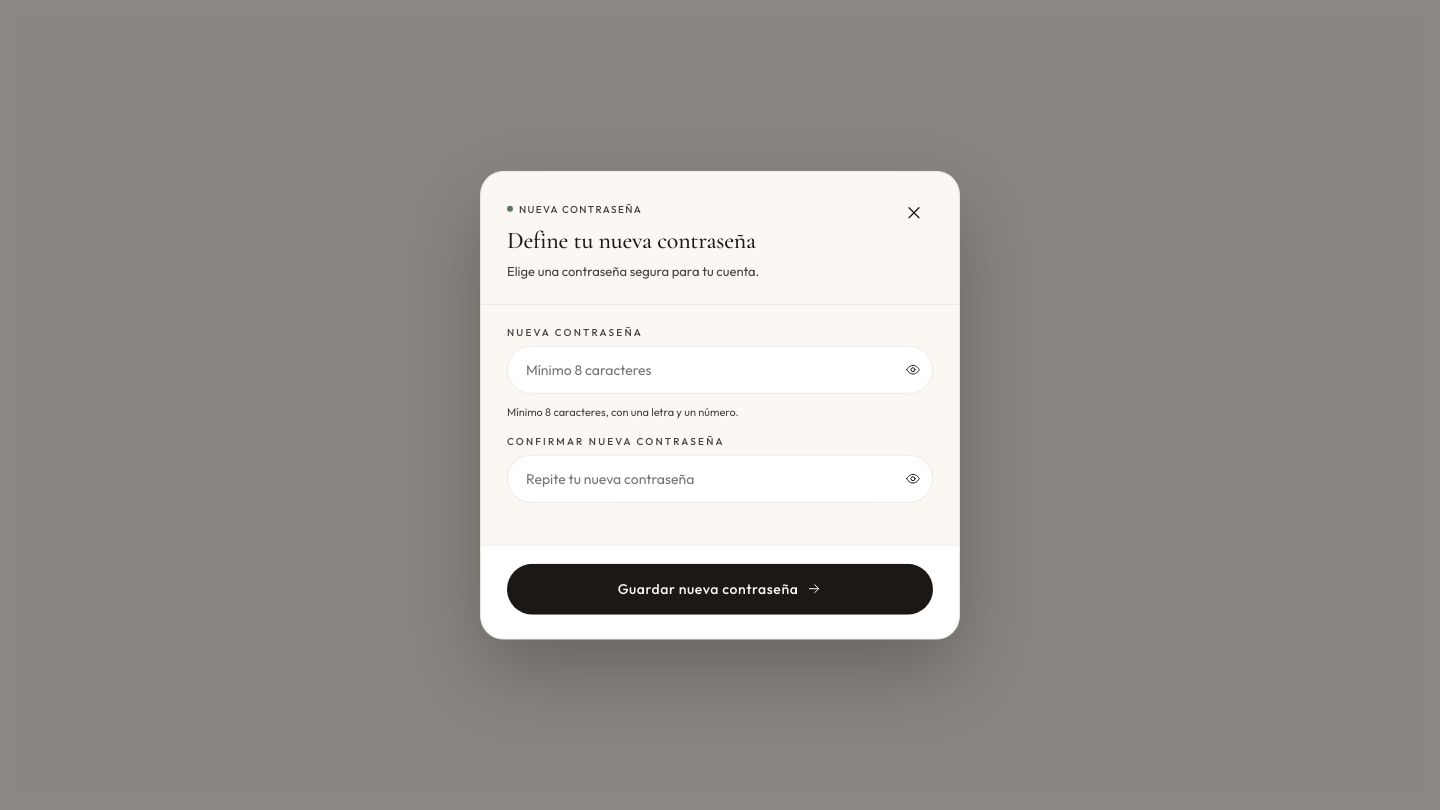
Test case: ResetPasswordModal › shows the success screen after saving a new password
The width and height of the screenshot is (1440, 810).
Type "clave1234" into the password field with placeholder "Mínimo 8 caracteres" at (720, 369), box [507, 345, 933, 393]
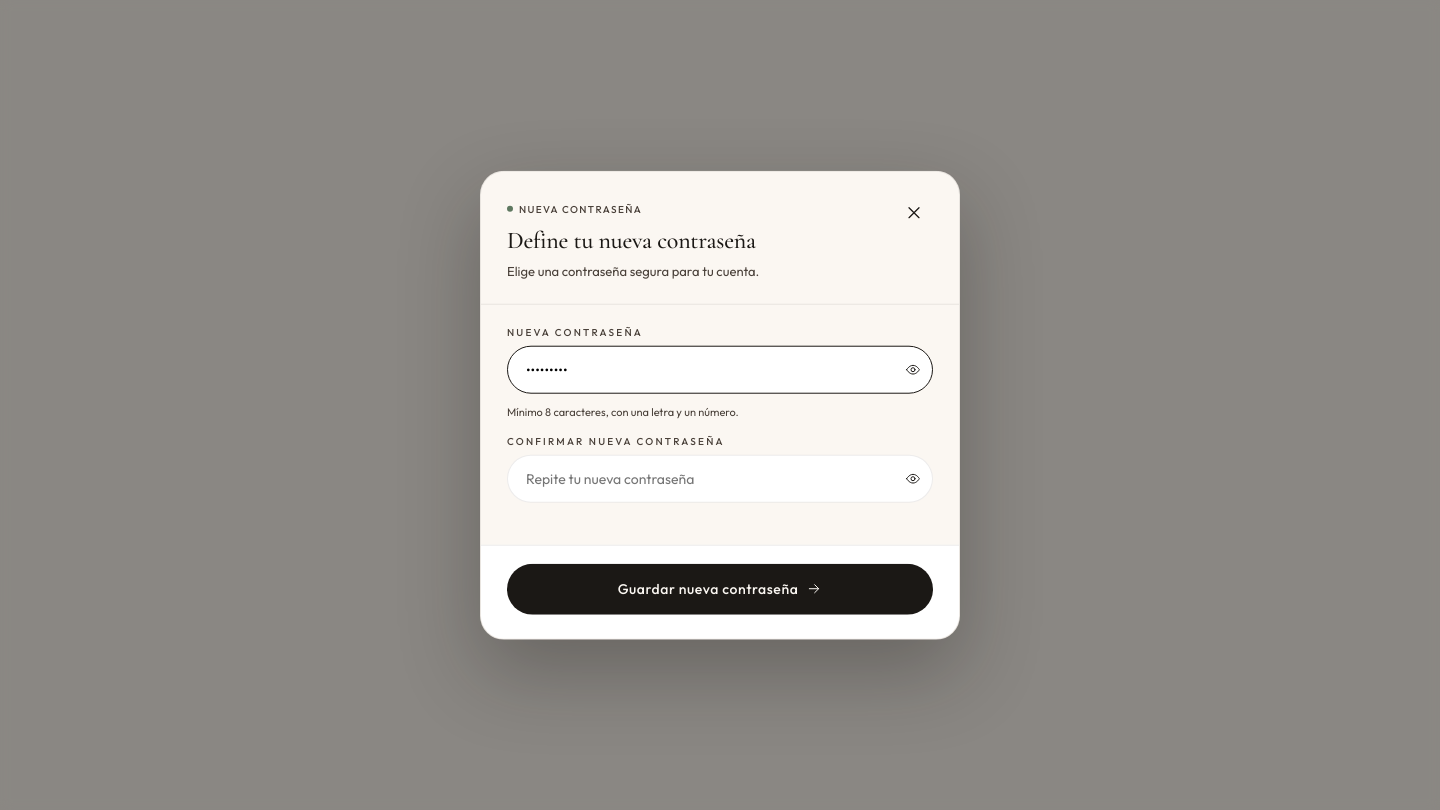
Type "clave1234" into the password field with placeholder "Repite tu nueva contraseña" at (720, 478), box [507, 454, 933, 502]
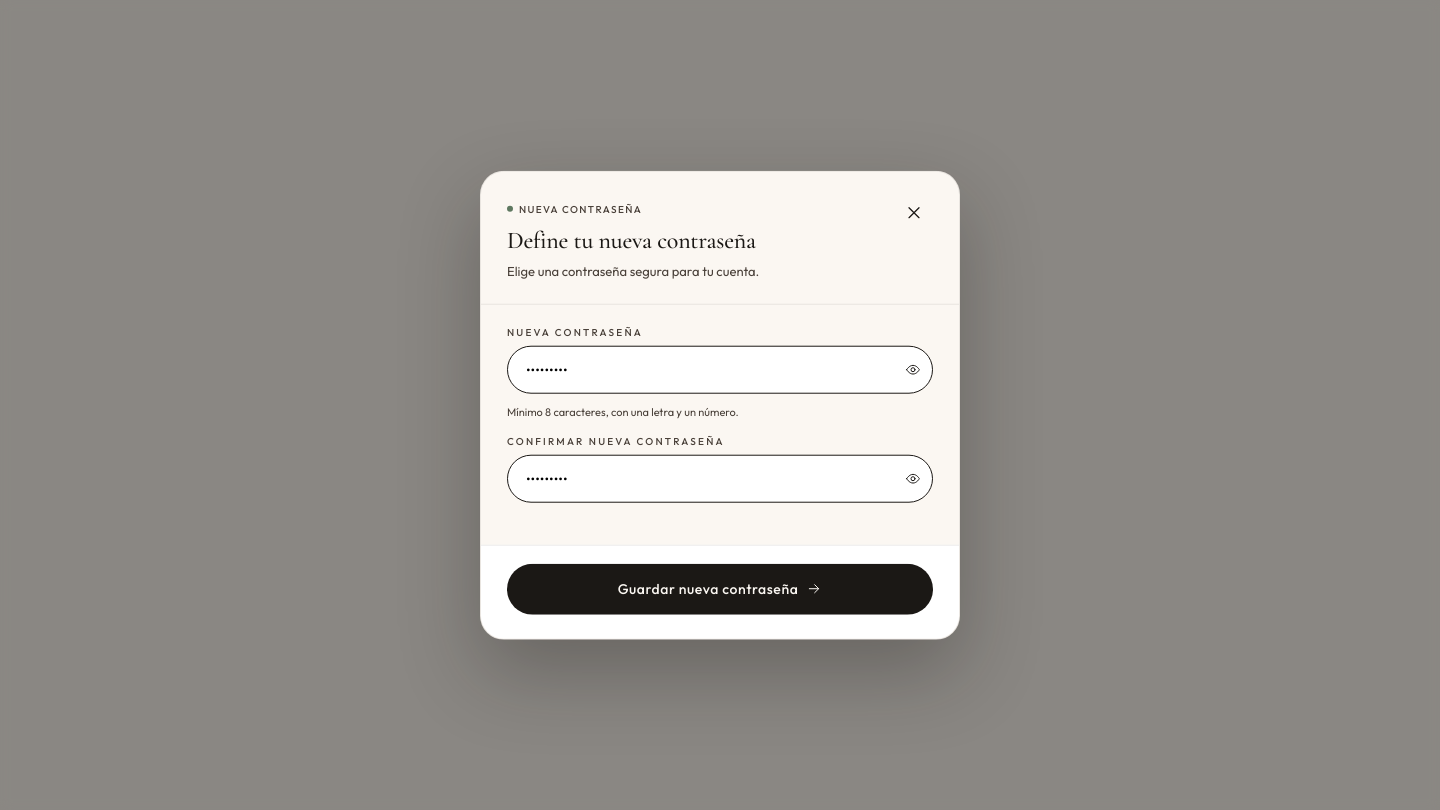
Click the button "Guardar nueva contraseña" at (720, 589), box [507, 563, 933, 614]
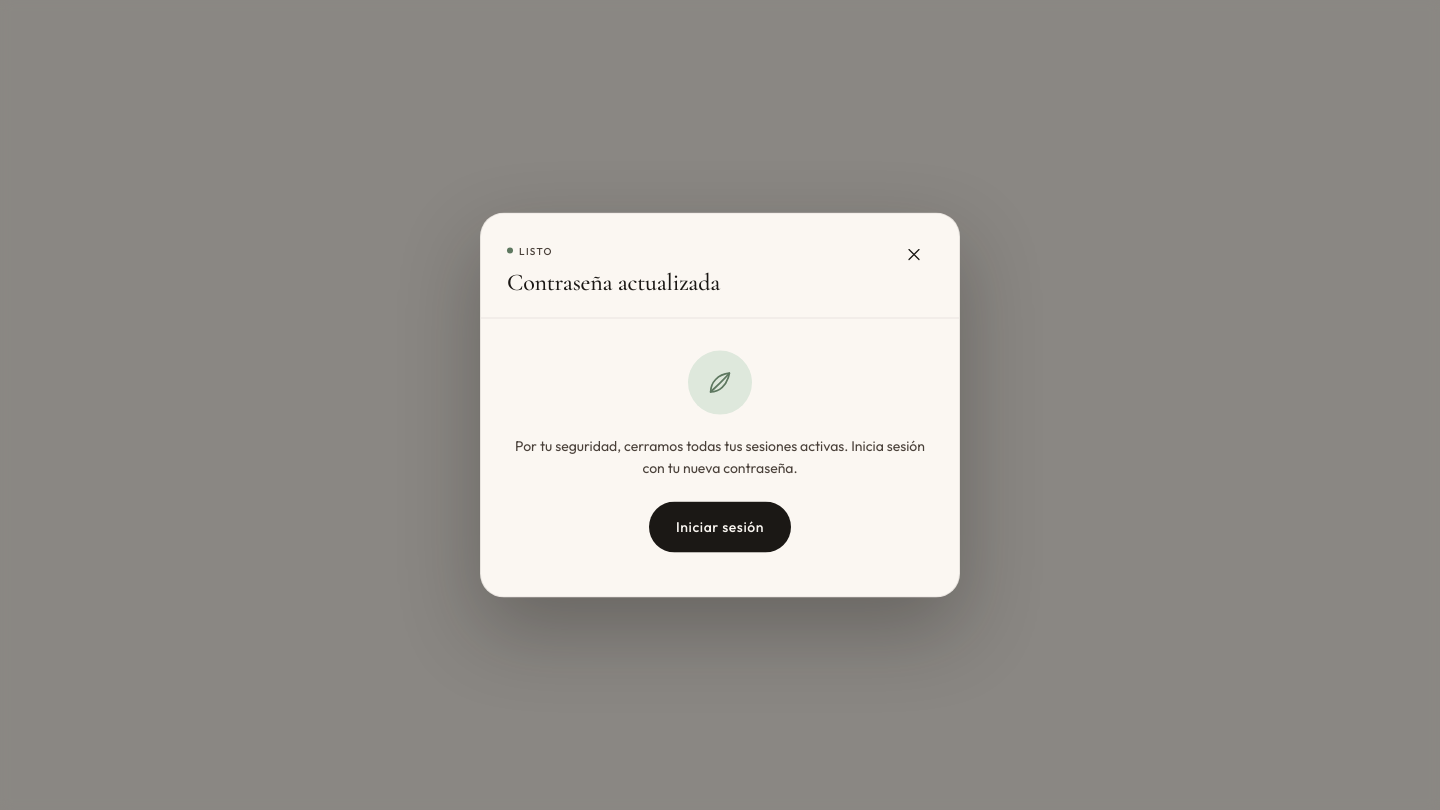
Expected: the text "Contraseña actualizada" is shown, [507, 268, 720, 296]
